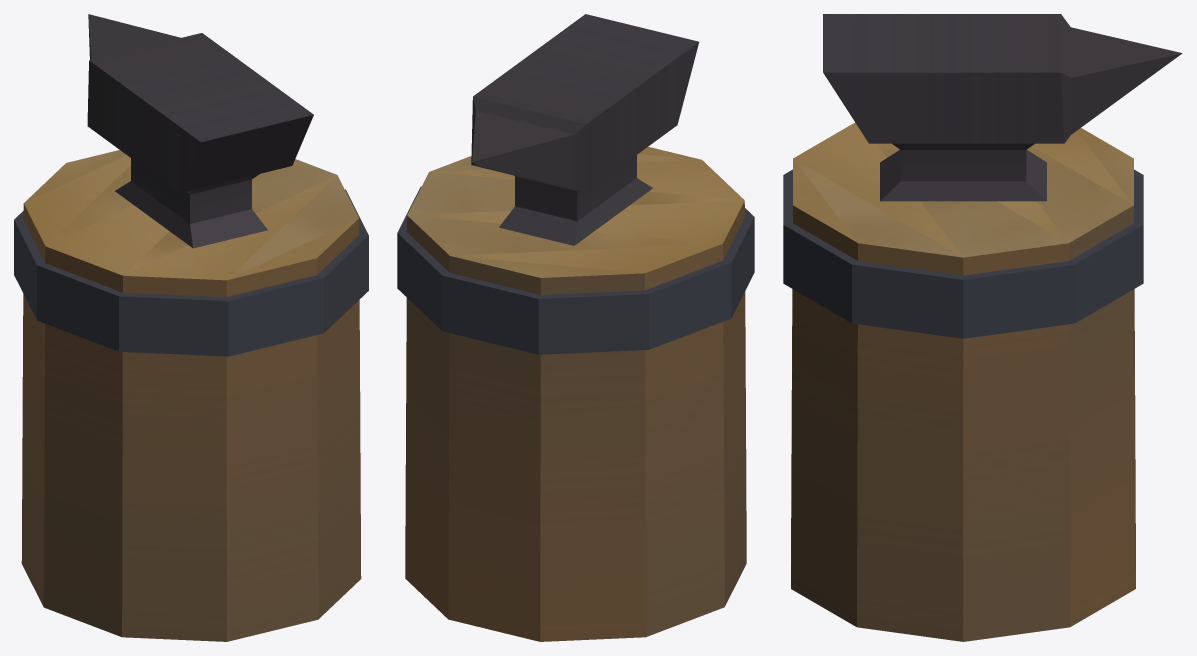
File: Forge_1_LOD1.fbx
3 views of the same model, side by side, from view 1: azimuth 30°, elevation 25°; view 2: azimuth 150°, elevation 25°; view 3: azimuth 270°, elevation 25° (orthographic). The views are drawn at different scales.
Parts seen in each view (by area): view 1: polySurface9720; view 2: polySurface9720; view 3: polySurface9720.
Boxes of the visible parts, left/top/right/bottom form: polySurface9720: left=14, top=14, right=368, bottom=641; polySurface9720: left=397, top=14, right=754, bottom=641; polySurface9720: left=783, top=14, right=1182, bottom=641.
Bounding box in the file's own units: 75.28 × 114 × 79.34.
